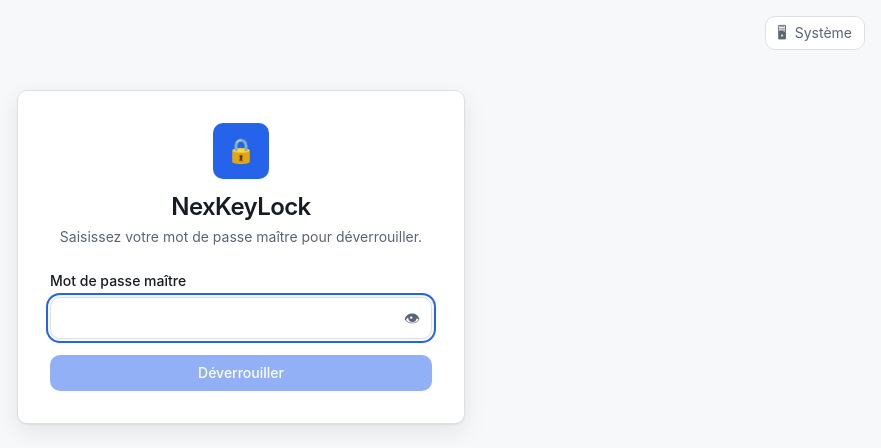
Test: EcranVerrouillage › affiche une erreur neutre sur mauvais mot de passe
(page scrolled)
Type "mauvais" into the password field labelled "Mot de passe maître" at (241, 318), box top-left (50, 297), bottom-right (432, 339)
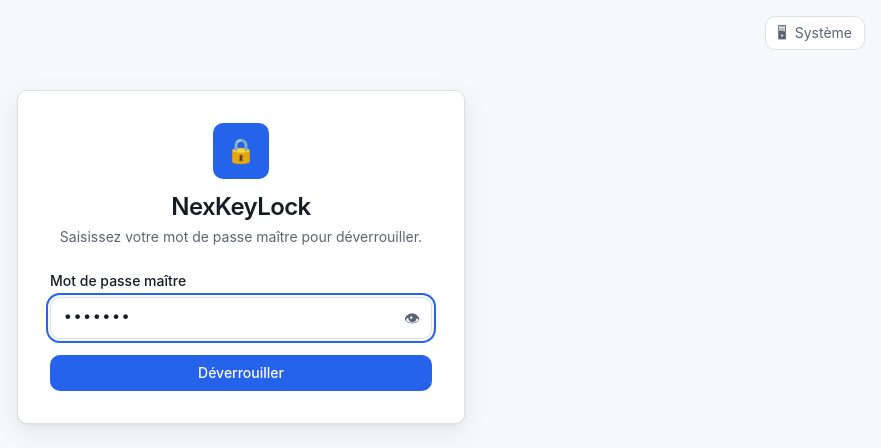
Click the button "Déverrouiller" at (241, 373), box top-left (50, 355), bottom-right (432, 391)
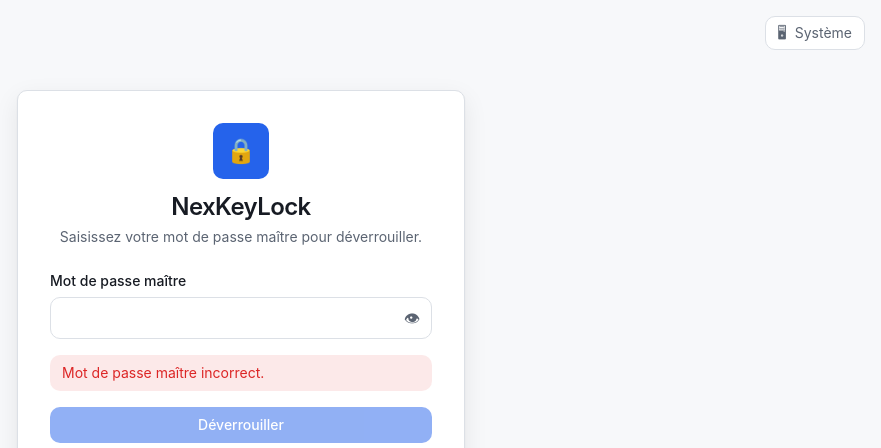
Check: the message reads "Mot de passe maître incorrect.", box top-left (62, 364), bottom-right (264, 381)
